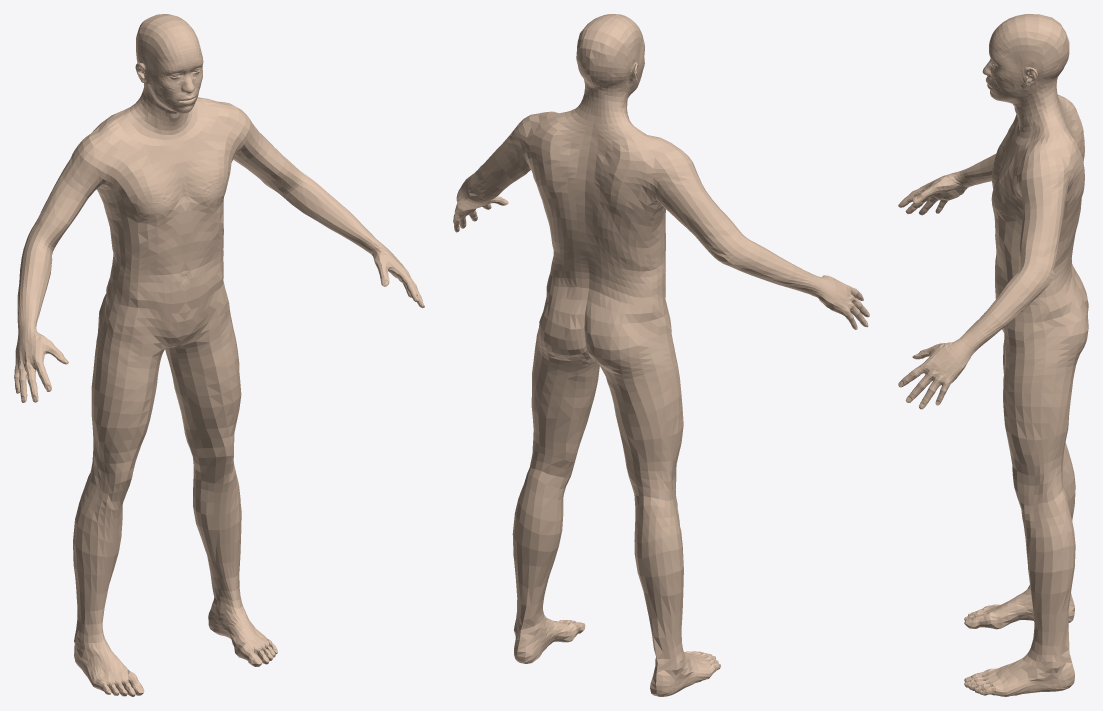
File: male-adult-average-medium.glb
3 views of the same model, side by side, from view 1: azimuth 30°, elevation 25°; view 2: azimuth 150°, elevation 25°; view 3: azimuth 270°, elevation 25° (orthographic).
Visible parts, largest first — view 1: world; view 2: world; view 3: world.
Part boxes in pixels (box(x1,y1,x2,y2)): world: box(14, 14, 424, 696); world: box(453, 14, 869, 696); world: box(898, 14, 1088, 696).
Size of the model in its own units: 1.28 by 1.95 by 0.526.
